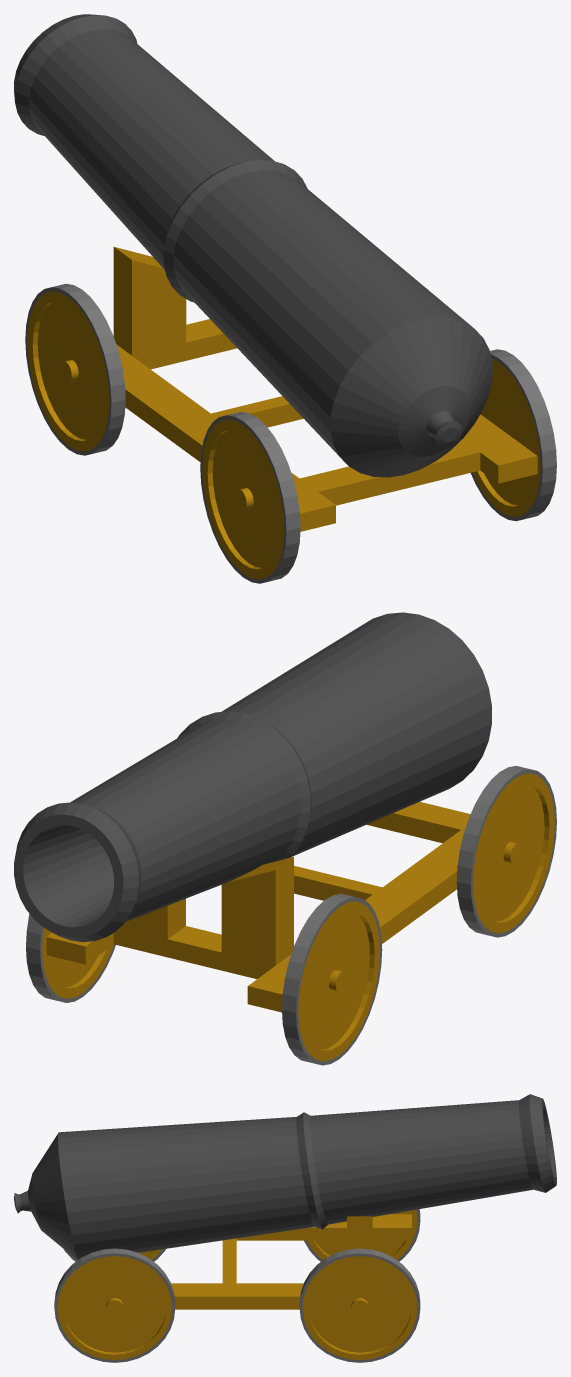
File: canon_.glb
3 views of the same model, one above another, from view 1: azimuth 30°, elevation 25°; view 2: azimuth 150°, elevation 25°; view 3: azimuth 270°, elevation 25° (orthographic). The views are drawn at different scales.
Parts seen in each view (by area): view 1: Canon, structure, wheel 2, wheel 1, wheel 3; view 2: Canon, structure, wheel 2, wheel 1, wheel 4; view 3: Canon, wheel 4, wheel 3, structure, wheel 1.
Boxes of the visible parts, x1=… form: Canon: x1=14, y1=14, x2=492, y2=477; structure: x1=113, y1=247, x2=537, y2=531; wheel 2: x1=200, y1=412, x2=300, y2=583; wheel 1: x1=25, y1=283, x2=125, y2=455; wheel 3: x1=470, y1=349, x2=556, y2=521; Canon: x1=14, y1=612, x2=491, y2=941; structure: x1=46, y1=801, x2=470, y2=1012; wheel 2: x1=456, y1=766, x2=556, y2=937; wheel 1: x1=282, y1=893, x2=382, y2=1065; wheel 4: x1=26, y1=914, x2=115, y2=1002; Canon: x1=14, y1=1094, x2=556, y2=1260; wheel 4: x1=299, y1=1248, x2=420, y2=1362; wheel 3: x1=54, y1=1248, x2=175, y2=1362; structure: x1=171, y1=1214, x2=411, y2=1309; wheel 1: x1=304, y1=1209, x2=420, y2=1261.
Bounding box in the file's own units: 1.93 × 2.09 × 4.73.
